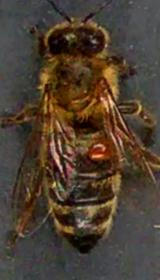varroa_mite: (78, 137, 120, 167)
